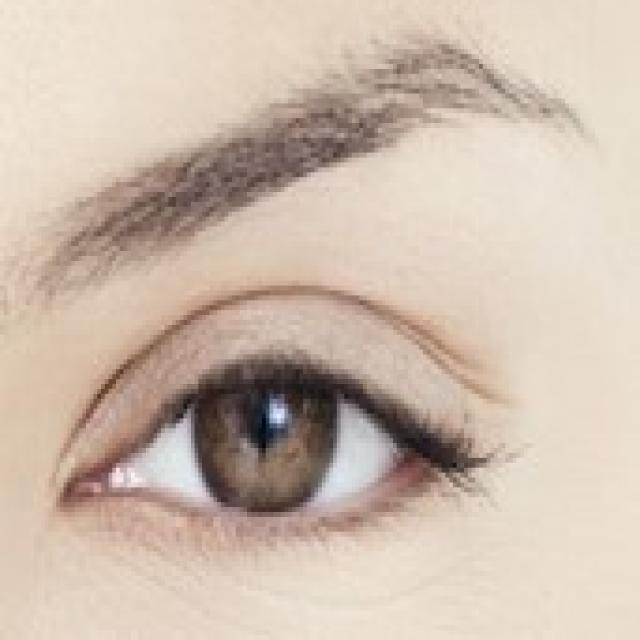Normal: (192, 332, 340, 521)
